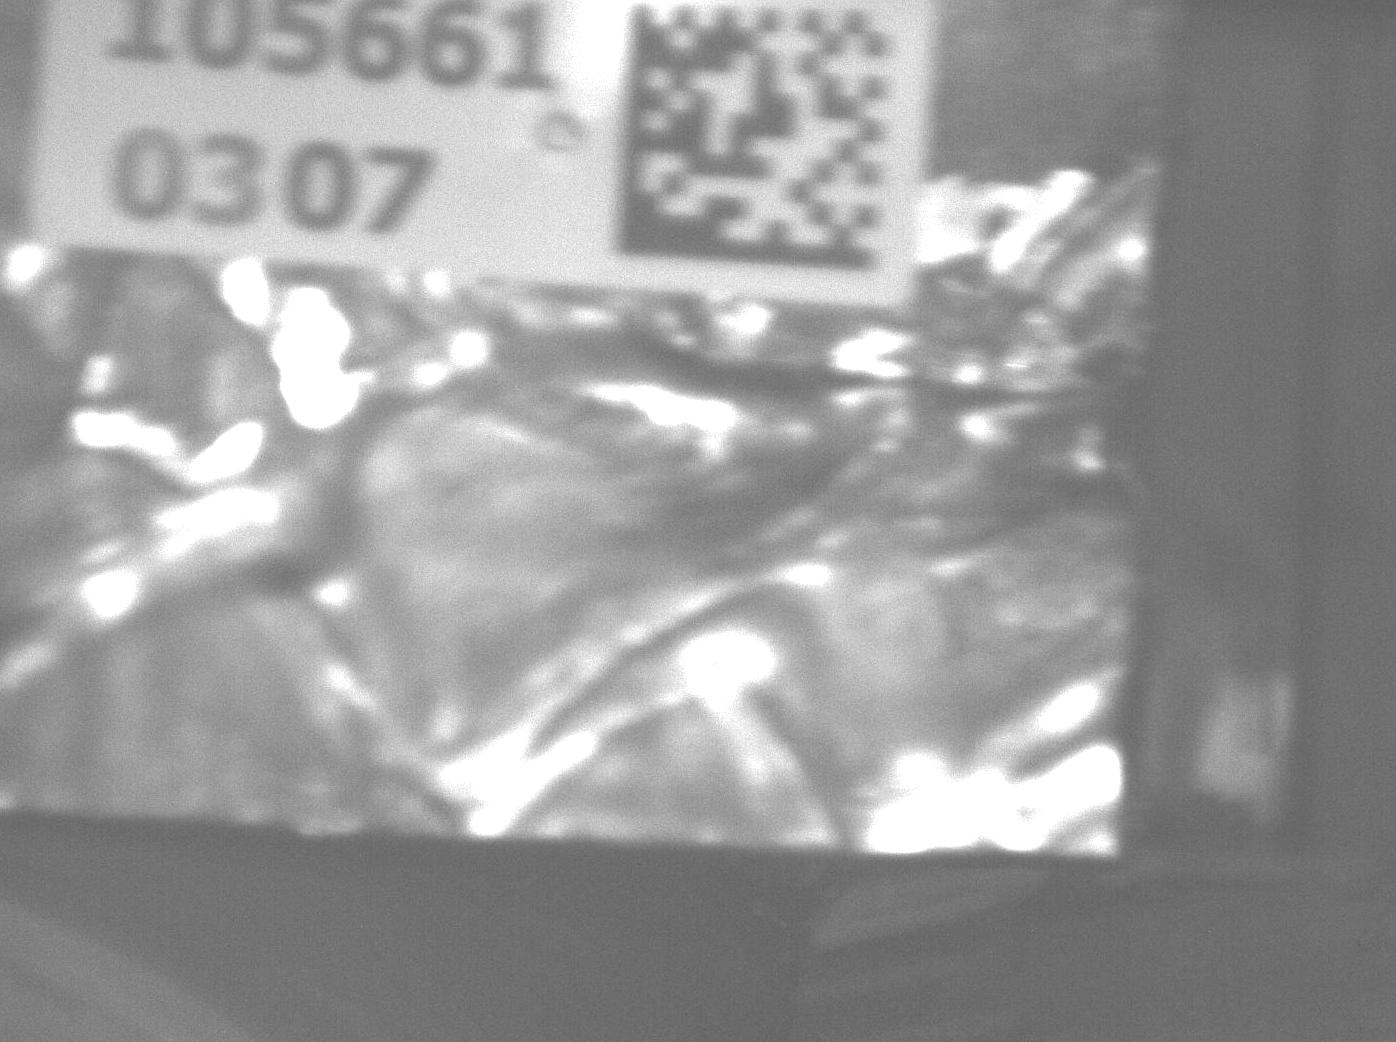data matrix: (598, 1, 908, 289)
